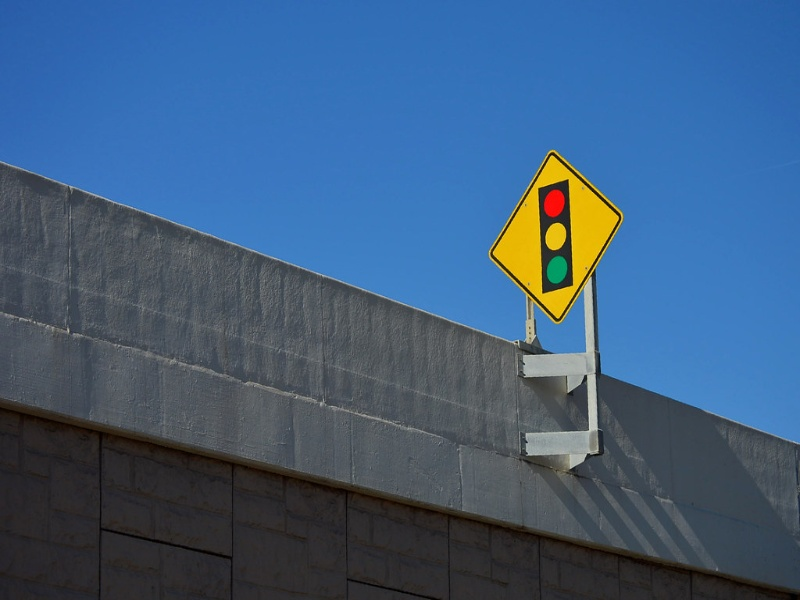traffic signal sign: (486, 149, 626, 326)
